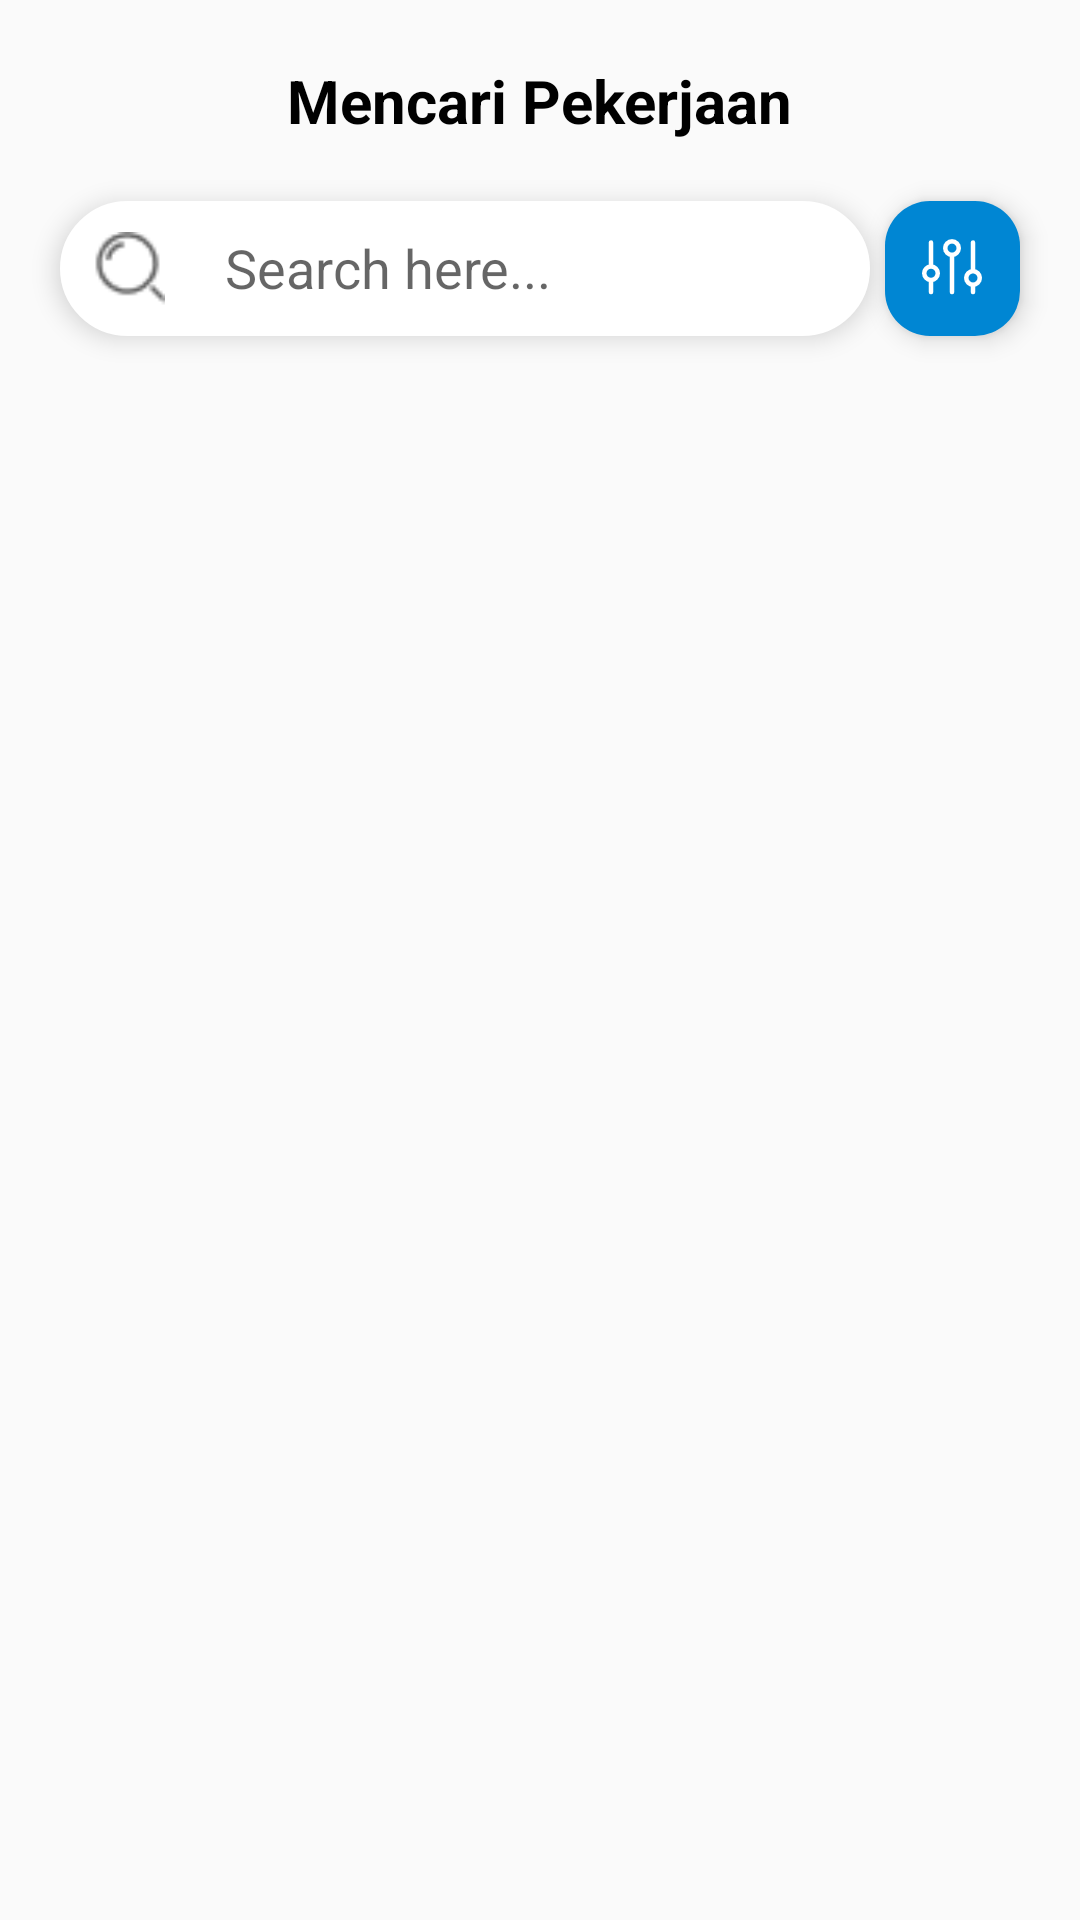

Locate icon controls on the screen. Image size 1080px×1920px, boxes as (x1, y1, x2, y2).
filter: (922, 239, 982, 295)
